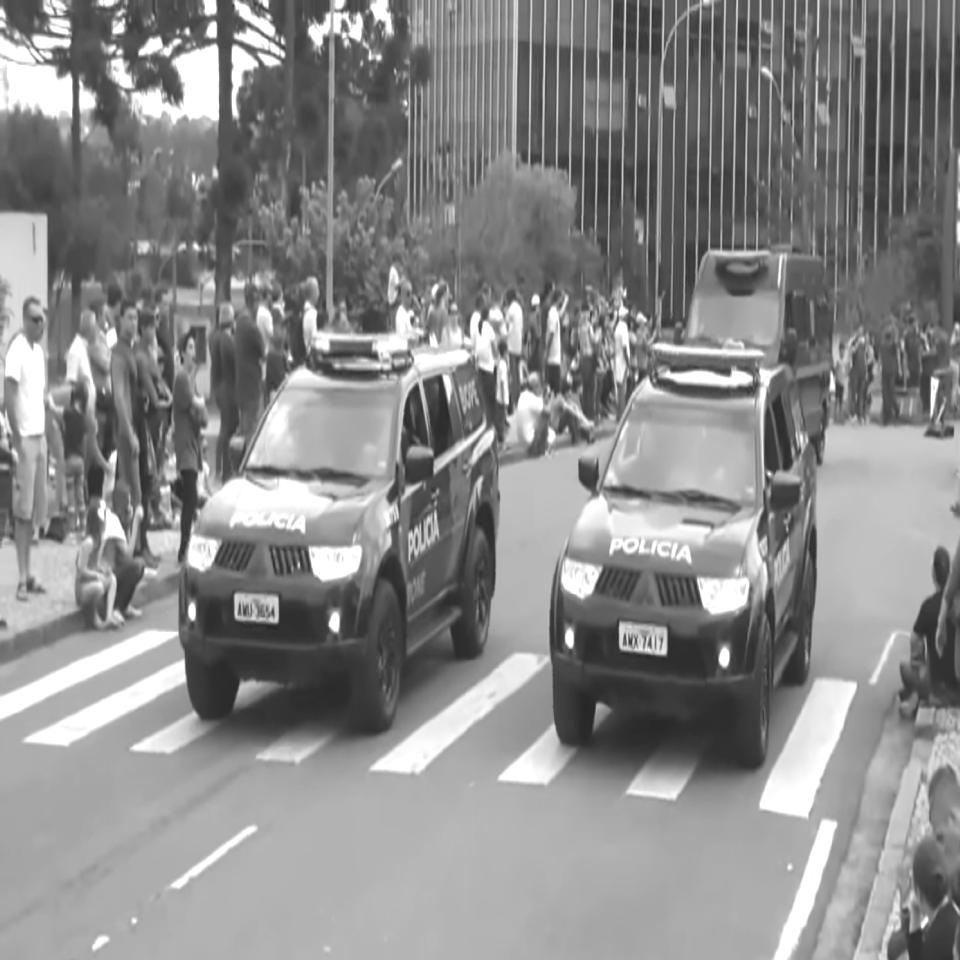viatura: (174, 318, 502, 738), (551, 336, 820, 774)
